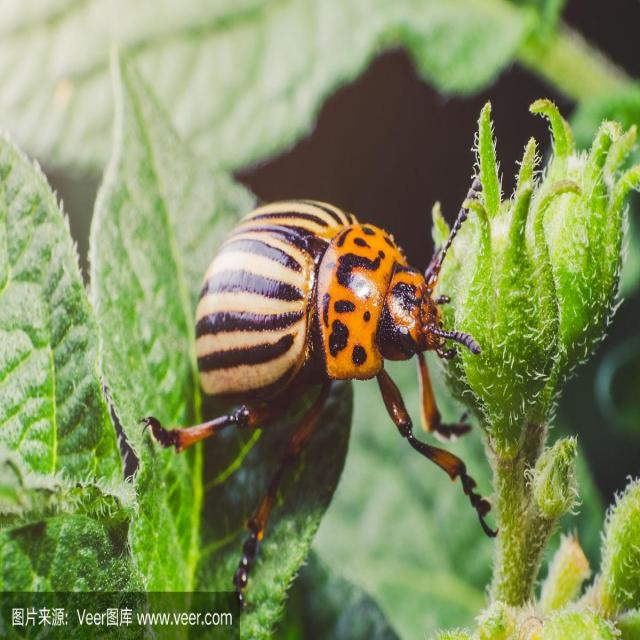ShuCaiHuaBanChong-Grown-: (164, 162, 480, 466)
